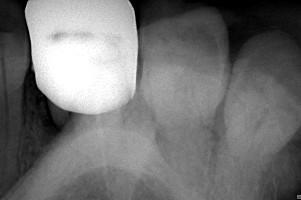Dental Caries: (34, 92, 64, 142)
